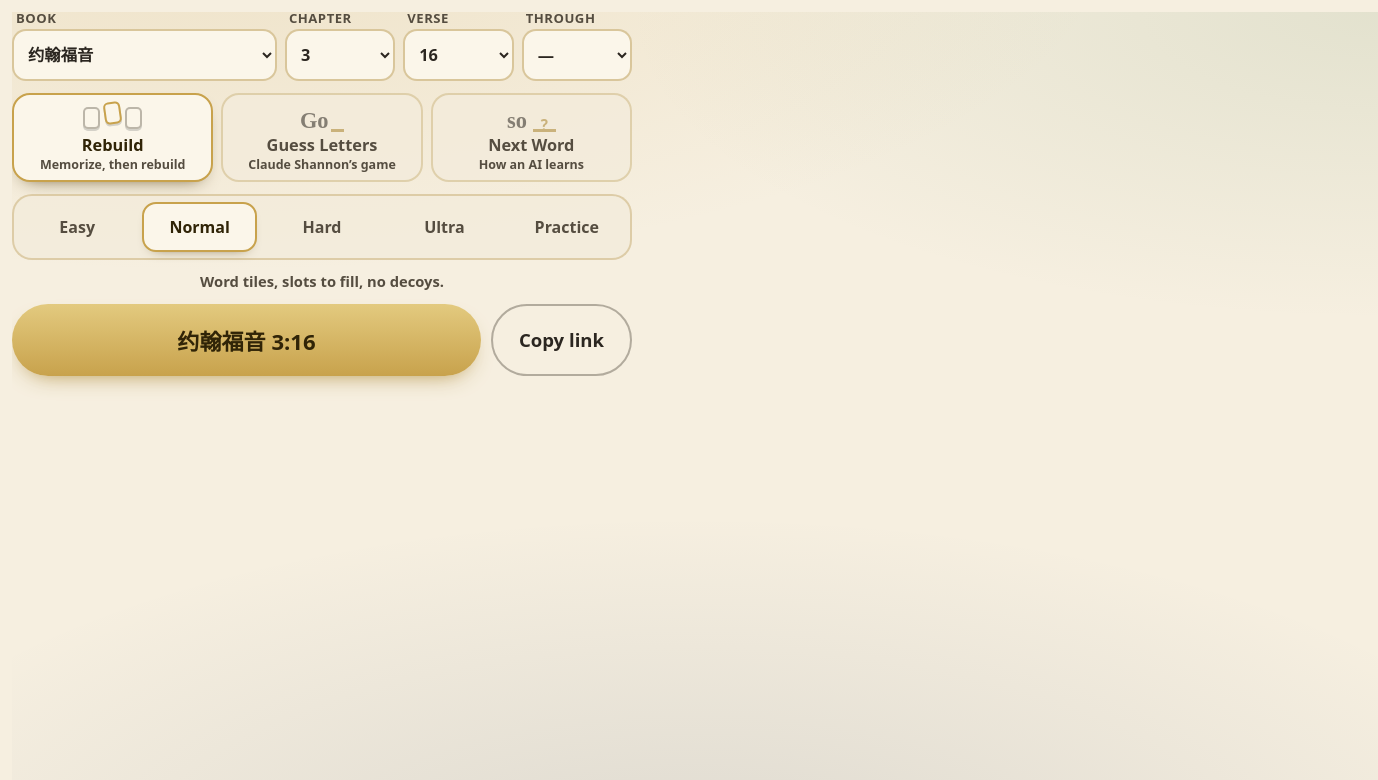
it: Pick a Verse › copies the share link
Click the button "Copy link": (562, 340) [491,304,632,376]
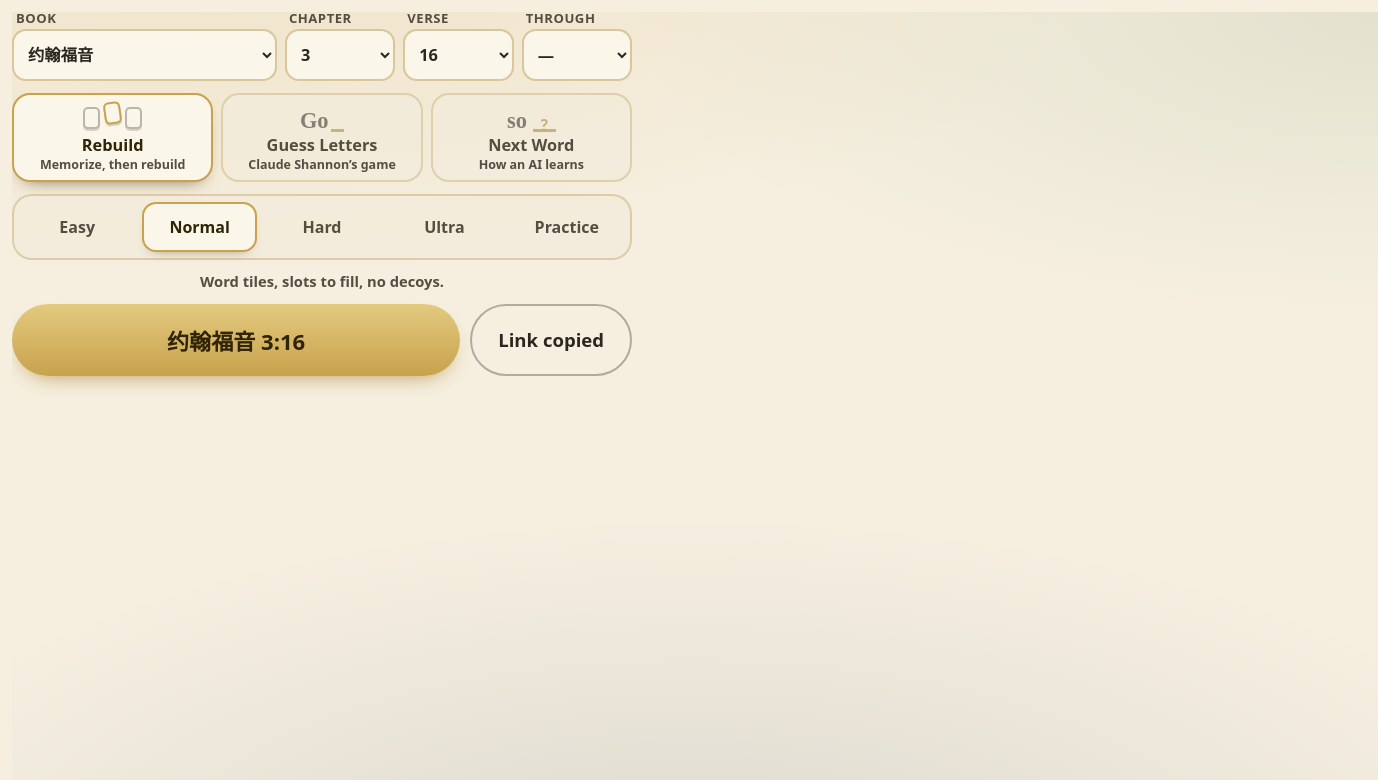
Expected: the button "Link copied" is shown, [470,304,632,376]
